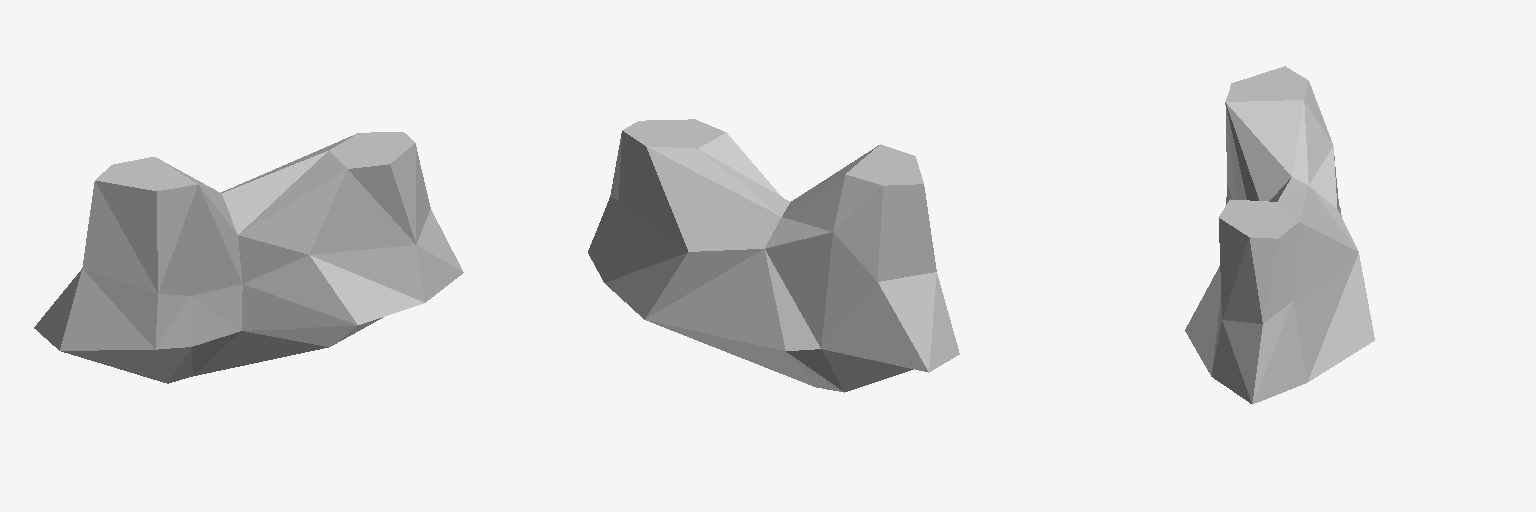
Rendered from model_pillar_0.obj.
3 views of the same model, side by side, from view 1: azimuth 30°, elevation 25°; view 2: azimuth 150°, elevation 25°; view 3: azimuth 270°, elevation 25° (orthographic).
Parts seen in each view (by area): view 1: obj_pillar_3; view 2: obj_pillar_3; view 3: obj_pillar_3.
Boxes of the visible parts, x1=… form: obj_pillar_3: x1=34, y1=132, x2=463, y2=383; obj_pillar_3: x1=588, y1=119, x2=959, y2=392; obj_pillar_3: x1=1185, y1=66, x2=1374, y2=404.
Size of the model in its own units: 17.3 by 9.57 by 7.35.